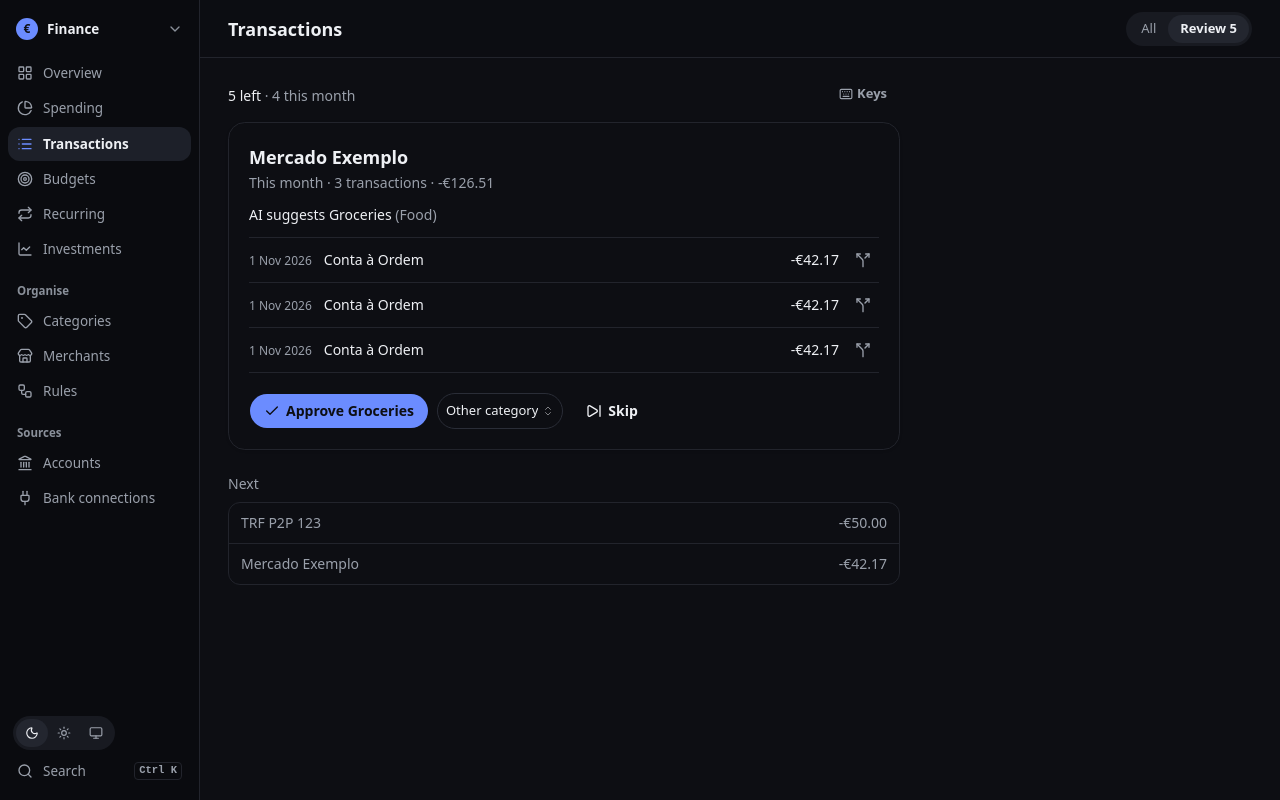
Test: lists what comes next
Expected: the element "Mercado Exemplo" is shown, [228,122,900,450]
Click the button "TRF P2P 123 -€50.00". click: (281, 522)
box: [229,503,899,543]
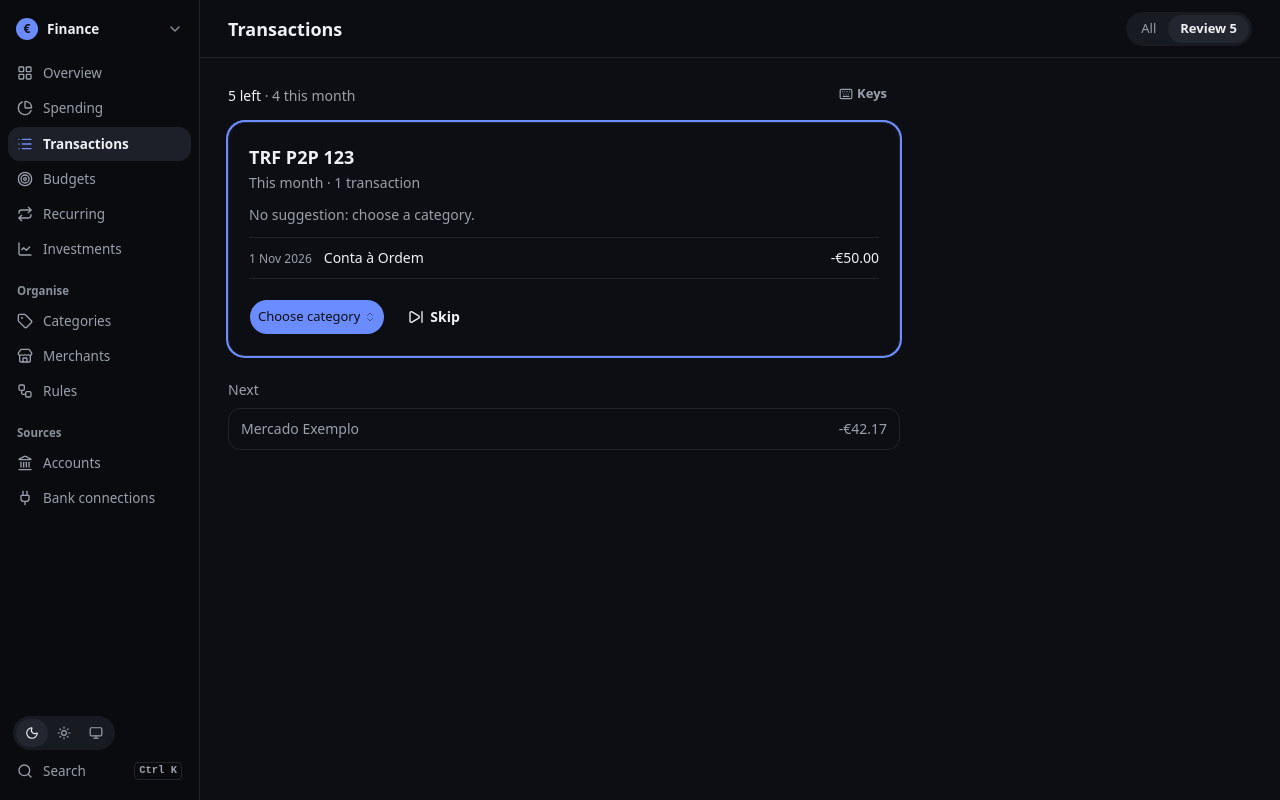
Expected: the element "TRF P2P 123" is shown, [228,122,900,356]
